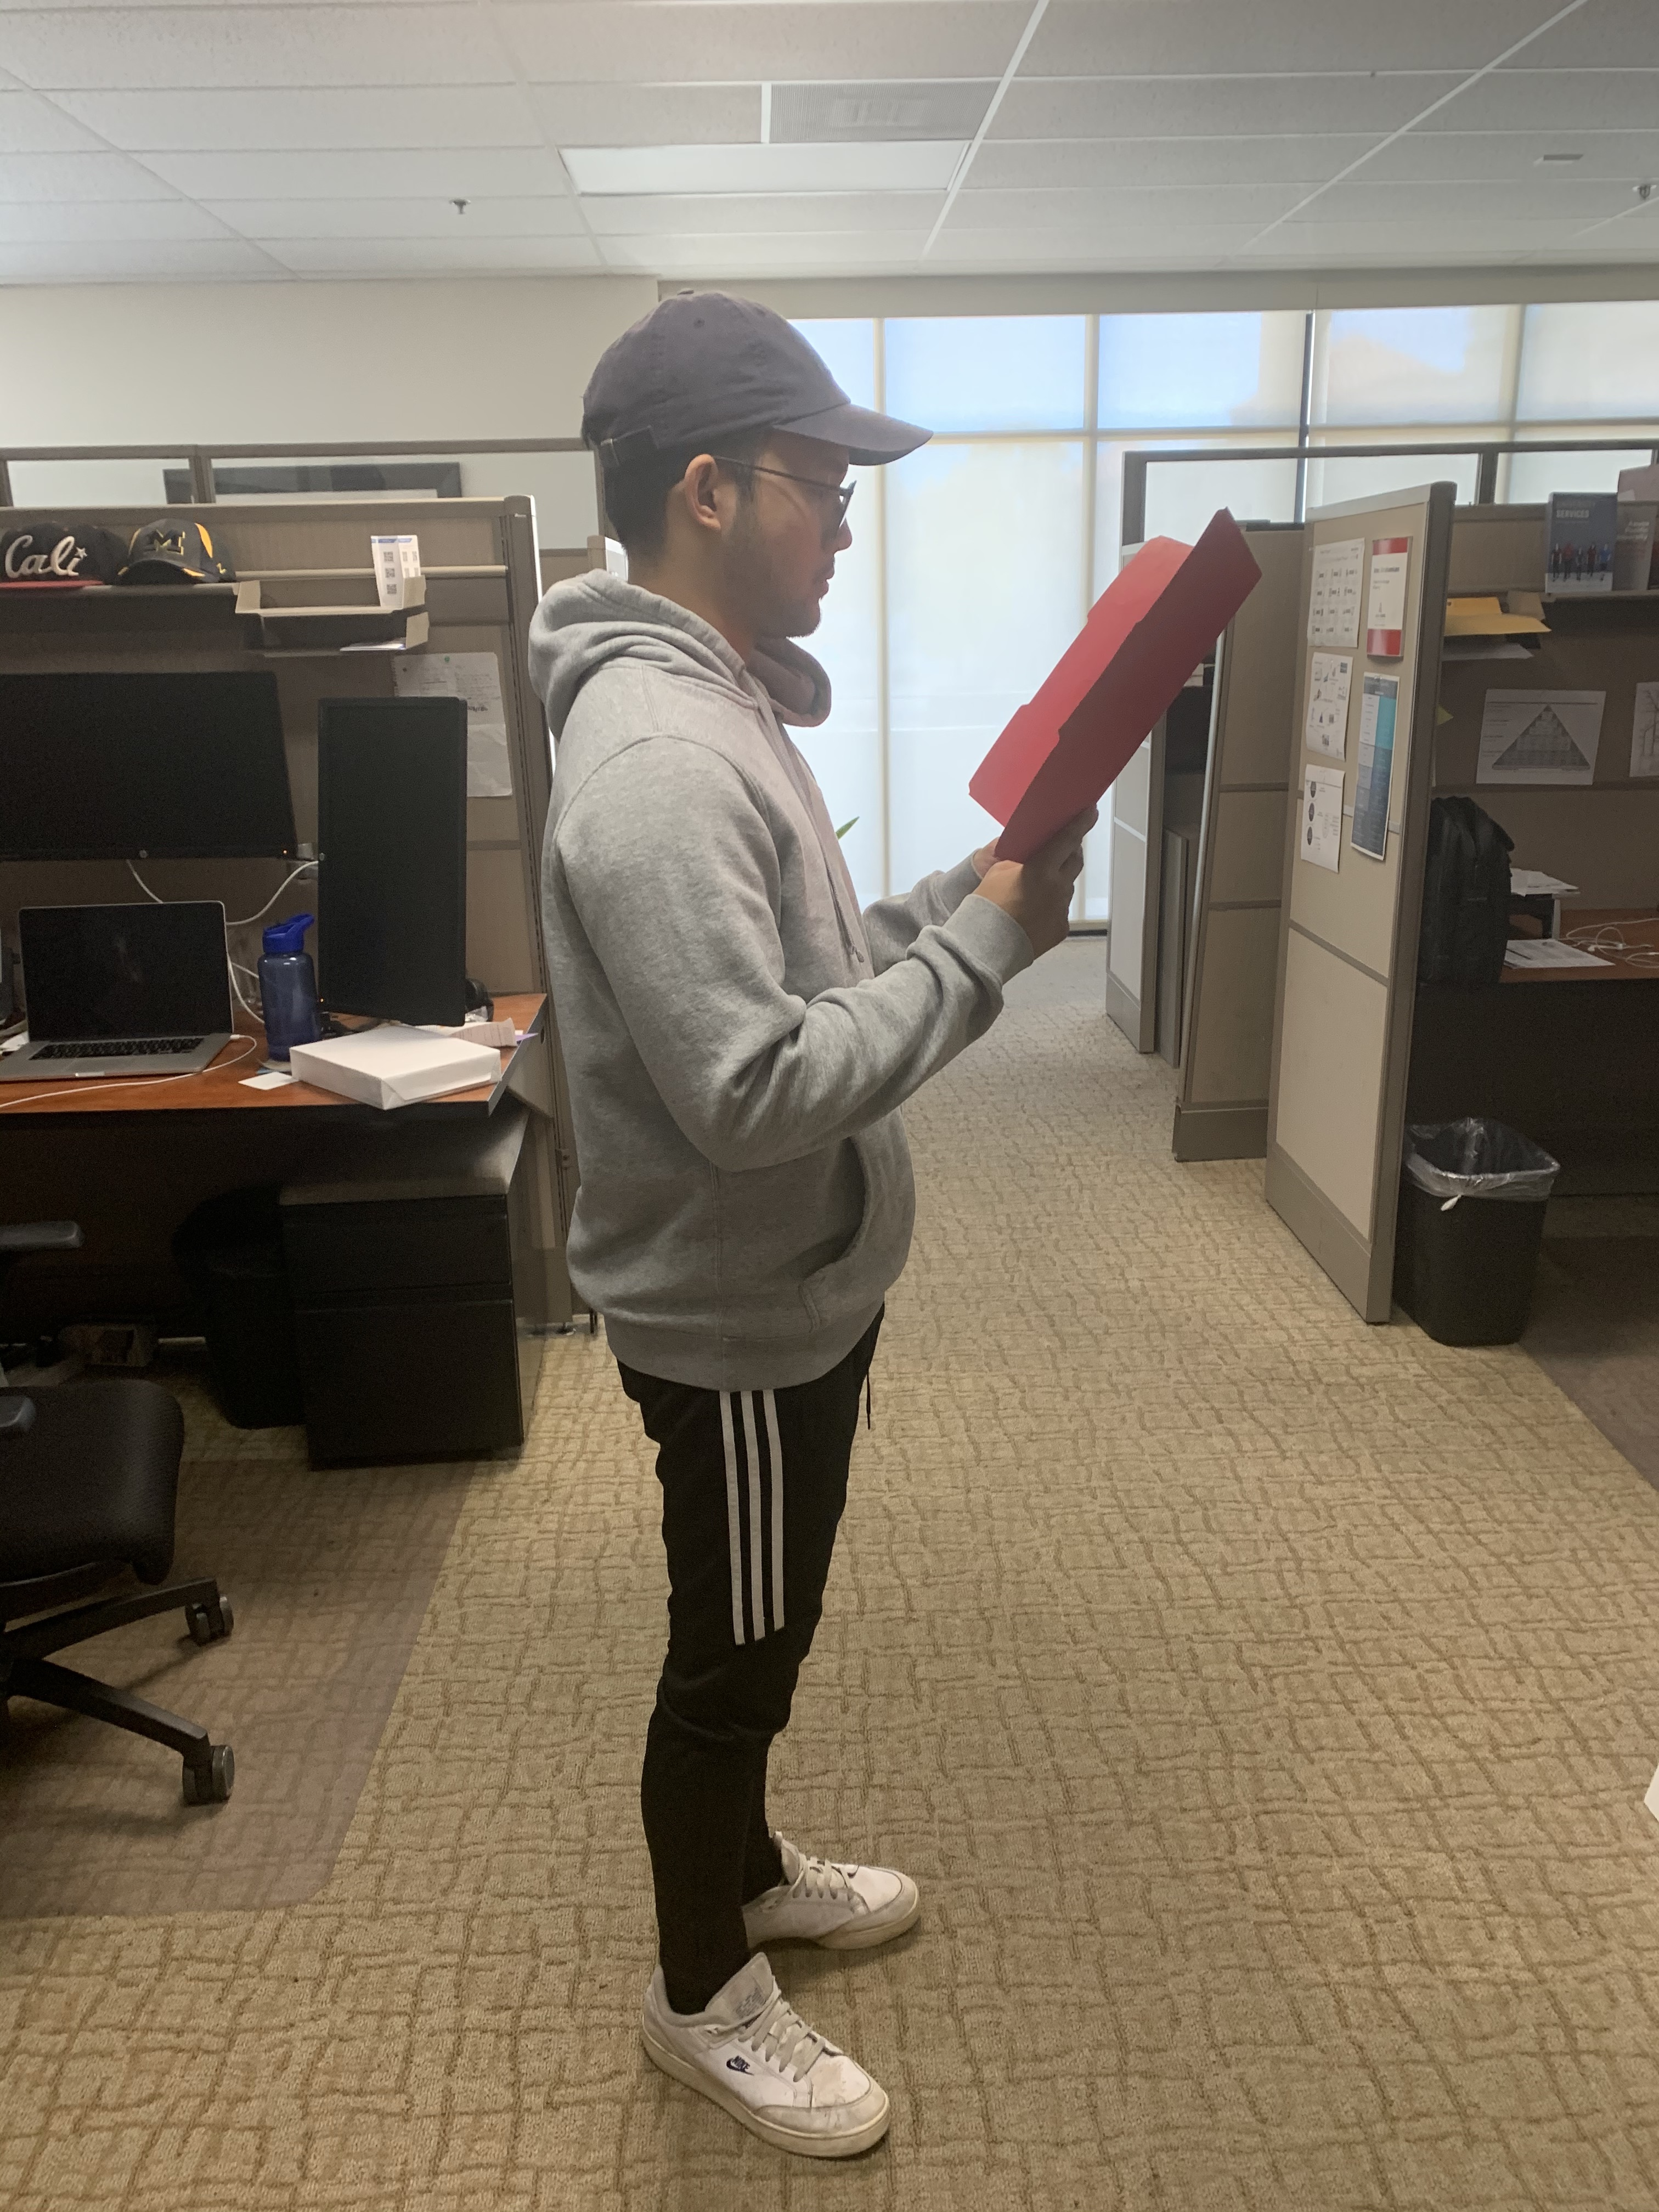red folder: (955, 512, 1269, 887)
